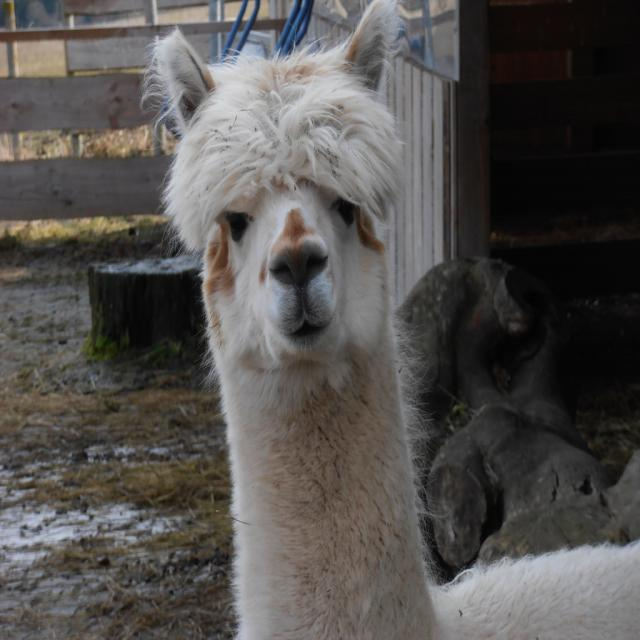Cattle: (139, 0, 639, 639)
